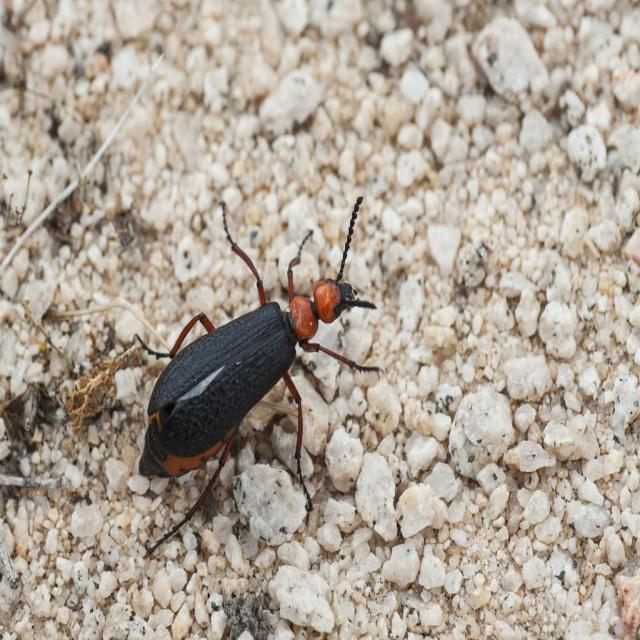BlisterBeetle-Adult-: (118, 182, 379, 558)
